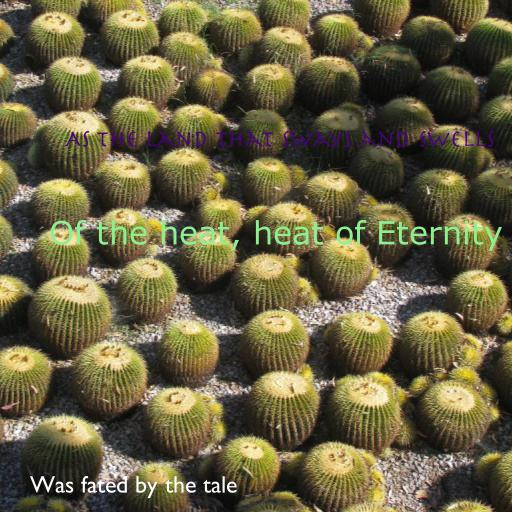Gill Sans: (29, 476, 237, 499)
Herculanum: (65, 131, 495, 149)
Verdana: (49, 219, 503, 251)
